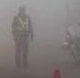person: (12, 6, 33, 68)
